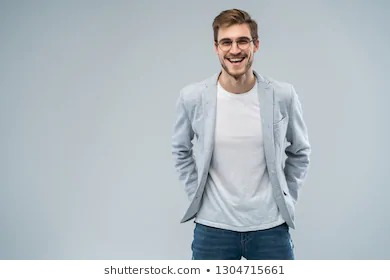F_M_suit jacket: (166, 66, 314, 230)
